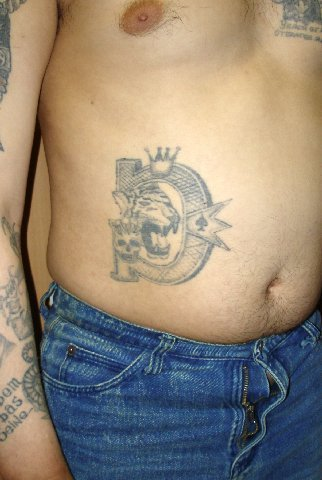tatu3_bukva: (1, 374, 29, 444)
tatu5_tigr: (109, 181, 179, 259)
